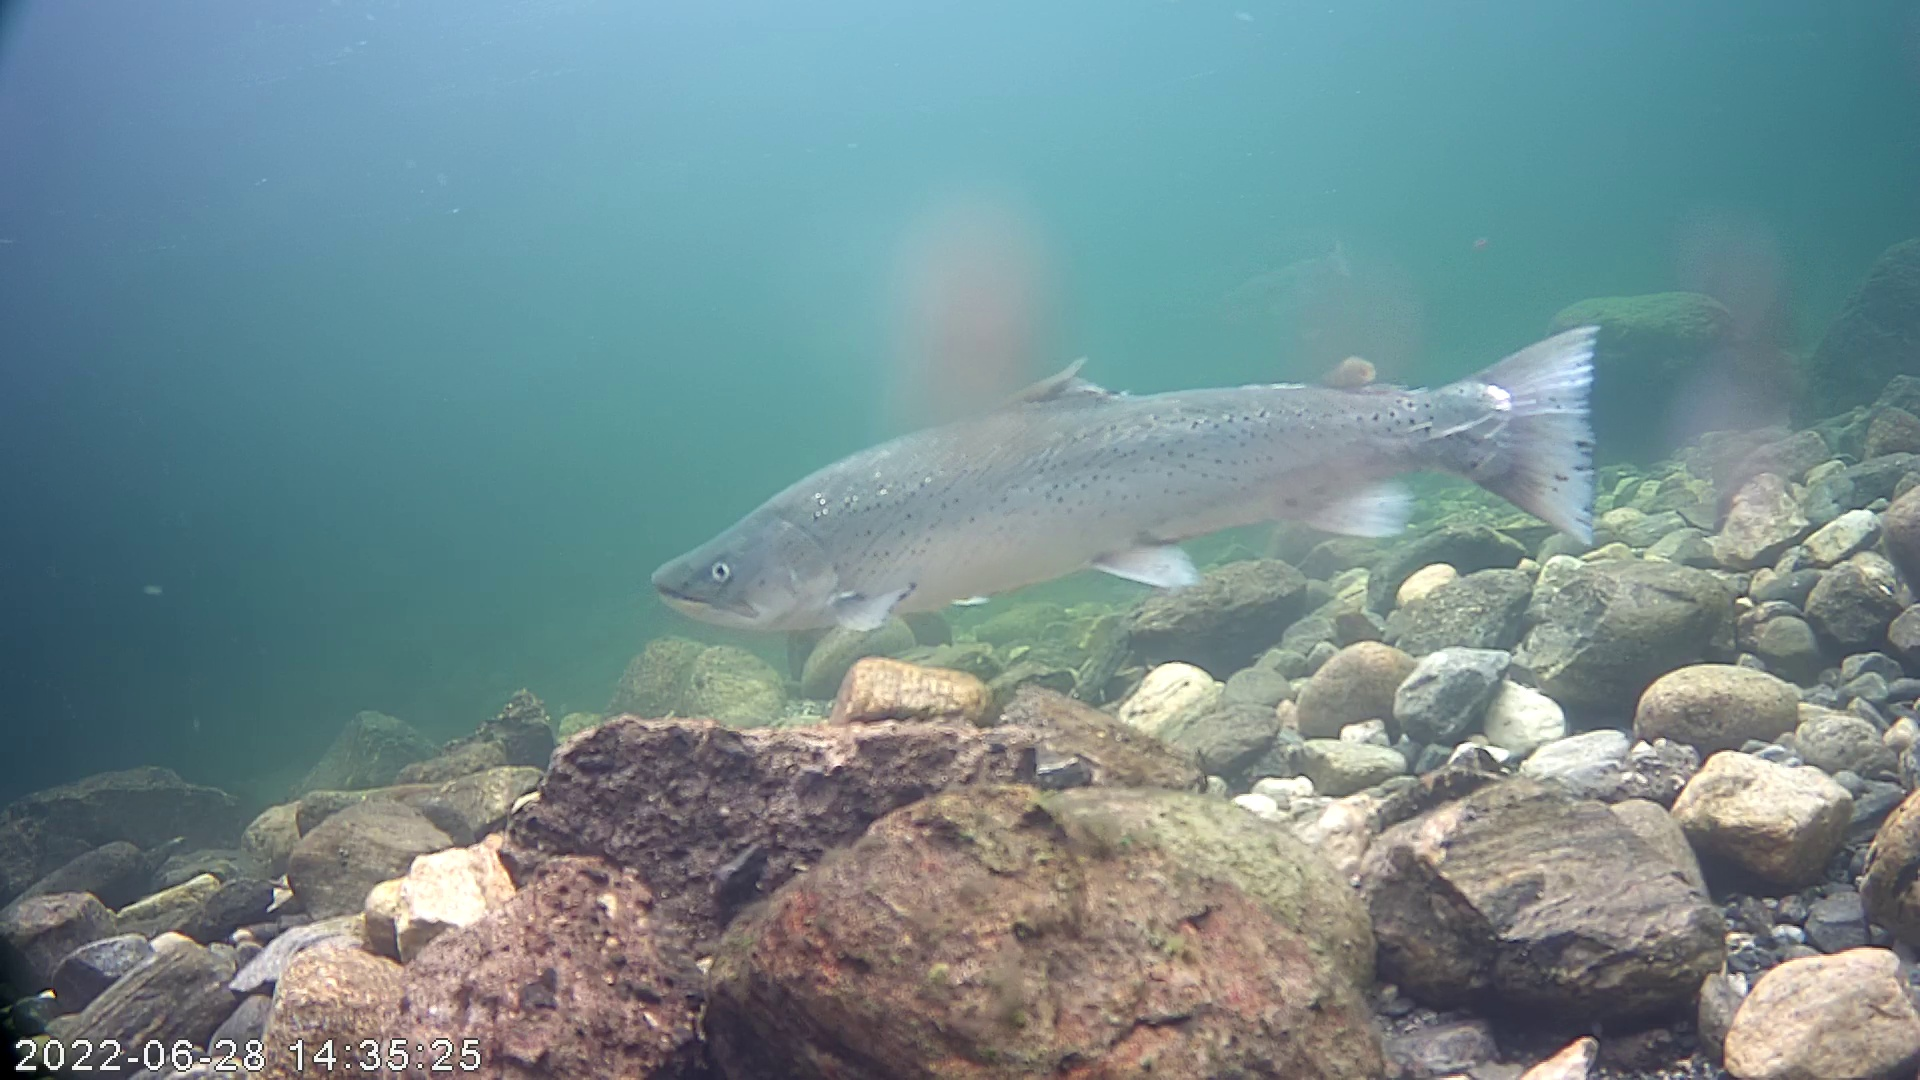salmon: (640, 225, 1638, 665)
